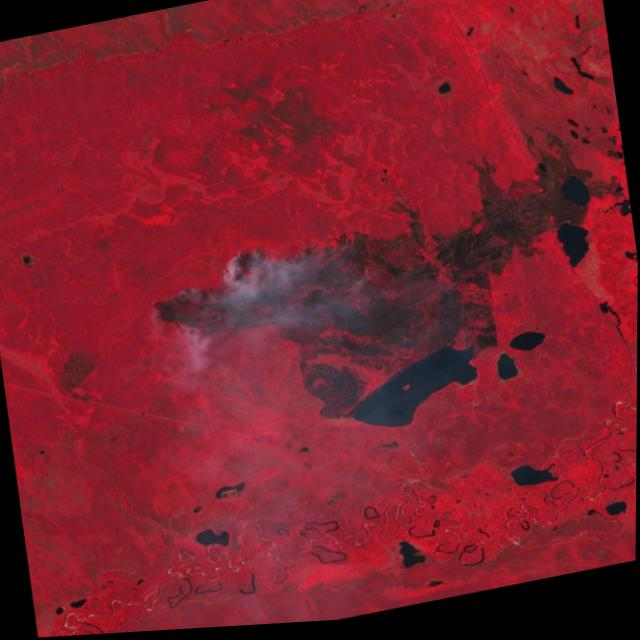fire: (142, 235, 325, 325)
